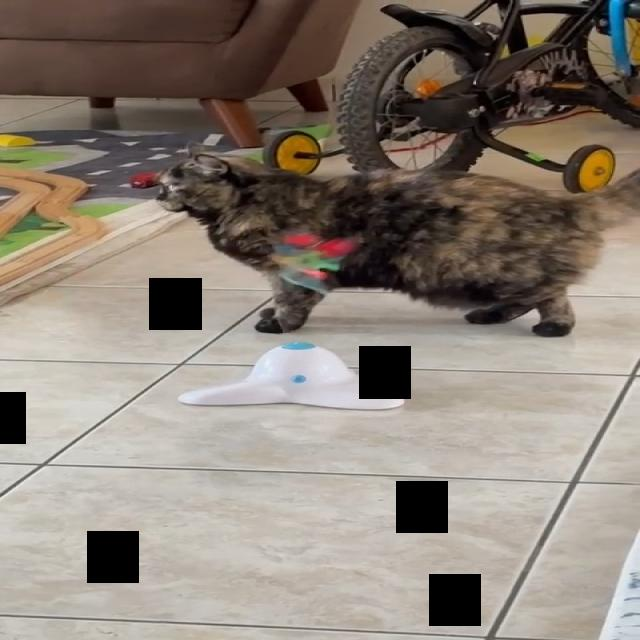authorized: (152, 141, 639, 337)
